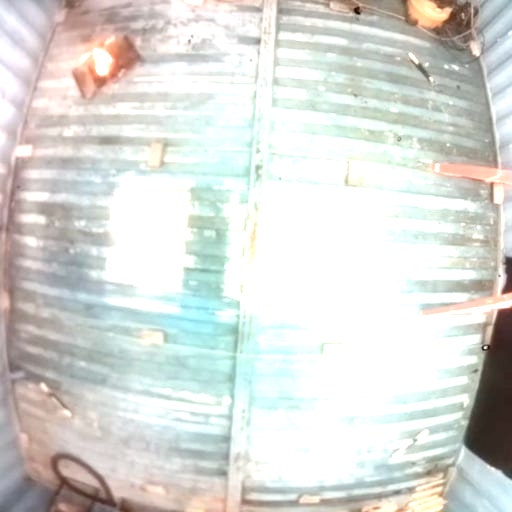Fire: (90, 45, 114, 77)
